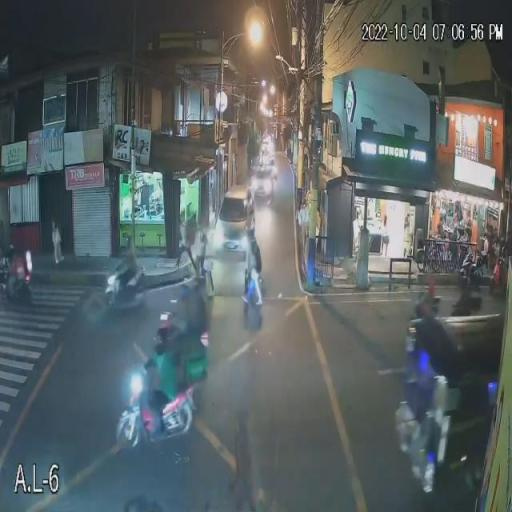helmet: (150, 325, 176, 357), (5, 239, 13, 259)
motorcycle: (116, 366, 206, 450), (100, 270, 152, 308), (0, 272, 39, 302)
rider: (147, 314, 173, 417), (118, 238, 135, 292), (4, 234, 13, 286)
